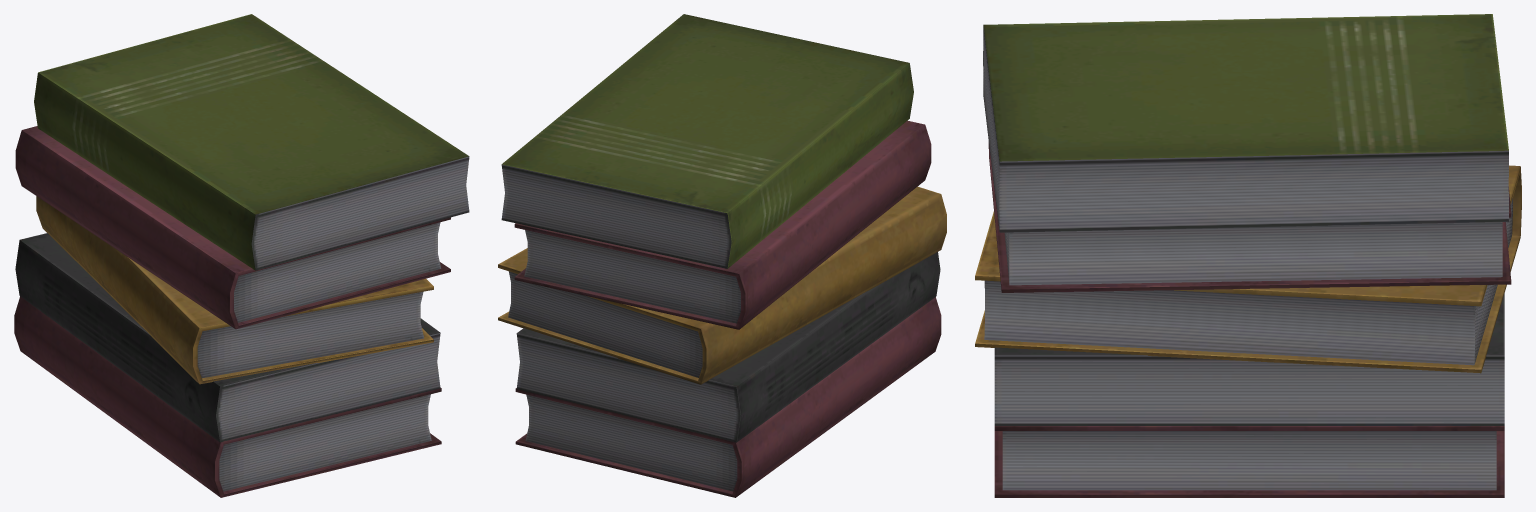
Rendered from book_pile_unnamed01.dae.
The picture shows the model from 3 angles, left to right: view 1: azimuth 30°, elevation 25°; view 2: azimuth 150°, elevation 25°; view 3: azimuth 270°, elevation 25°; orthographic projection. The views are drawn at different scales.
Parts seen in each view (by area): view 1: book_pile_unnamed01; view 2: book_pile_unnamed01; view 3: book_pile_unnamed01.
Boxes of the visible parts, x1,y1,x2,y2 form: book_pile_unnamed01: (14,14,469,497); book_pile_unnamed01: (498,14,946,497); book_pile_unnamed01: (975,14,1521,497).
Bounding box in the file's own units: 0.1849 × 0.1825 × 0.2547.
